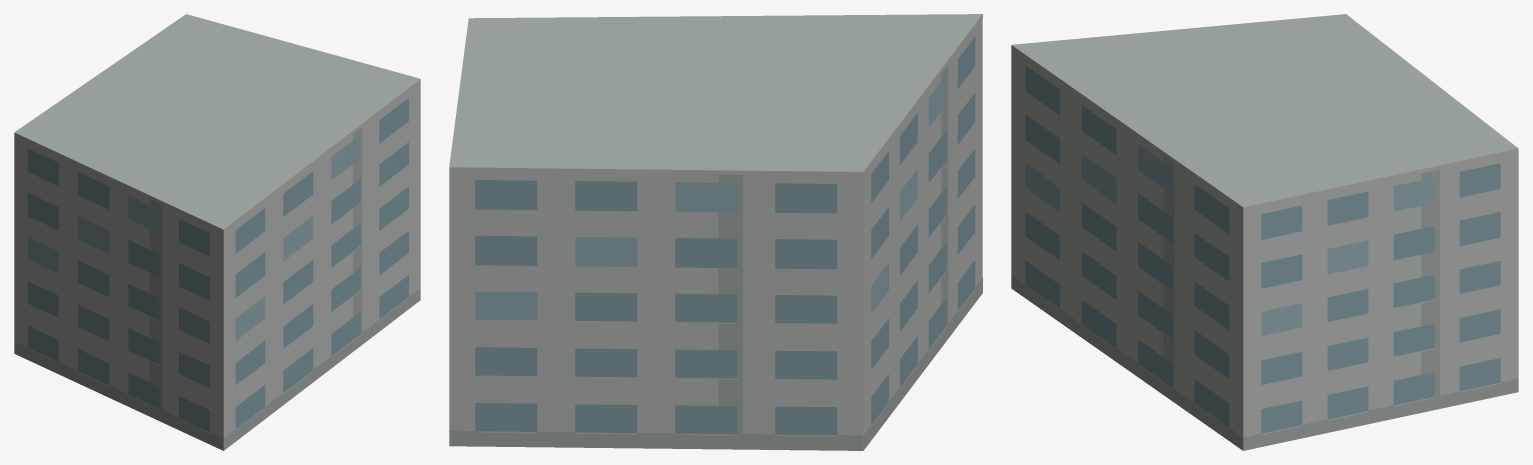
Rendered from residential-45be34db-9bfe-45af-abcc-f0a9370f5f89.glb.
3 views of the same model, side by side, from view 1: azimuth 30°, elevation 25°; view 2: azimuth 150°, elevation 25°; view 3: azimuth 270°, elevation 25° (orthographic). The views are drawn at different scales.
Parts seen in each view (by area): view 1: residential-45be34db-9bfe-45af-abcc-f0a9370f5f89.tmp; view 2: residential-45be34db-9bfe-45af-abcc-f0a9370f5f89.tmp; view 3: residential-45be34db-9bfe-45af-abcc-f0a9370f5f89.tmp.
Part boxes in pixels (<box>): residential-45be34db-9bfe-45af-abcc-f0a9370f5f89.tmp: <box>14,14,420,450</box>; residential-45be34db-9bfe-45af-abcc-f0a9370f5f89.tmp: <box>449,14,982,450</box>; residential-45be34db-9bfe-45af-abcc-f0a9370f5f89.tmp: <box>1011,14,1518,450</box>.
Size of the model in its own units: 25.96 by 15.25 by 28.79.
